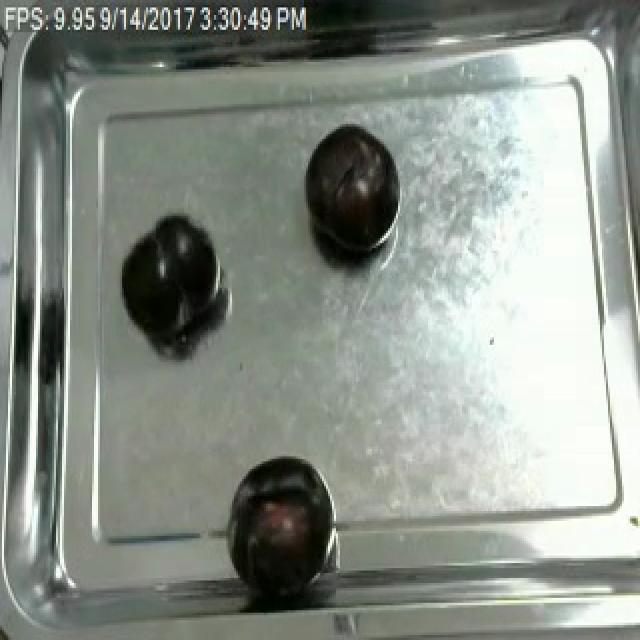Fruit: (230, 452, 332, 590), (118, 211, 224, 342), (300, 122, 398, 260)
